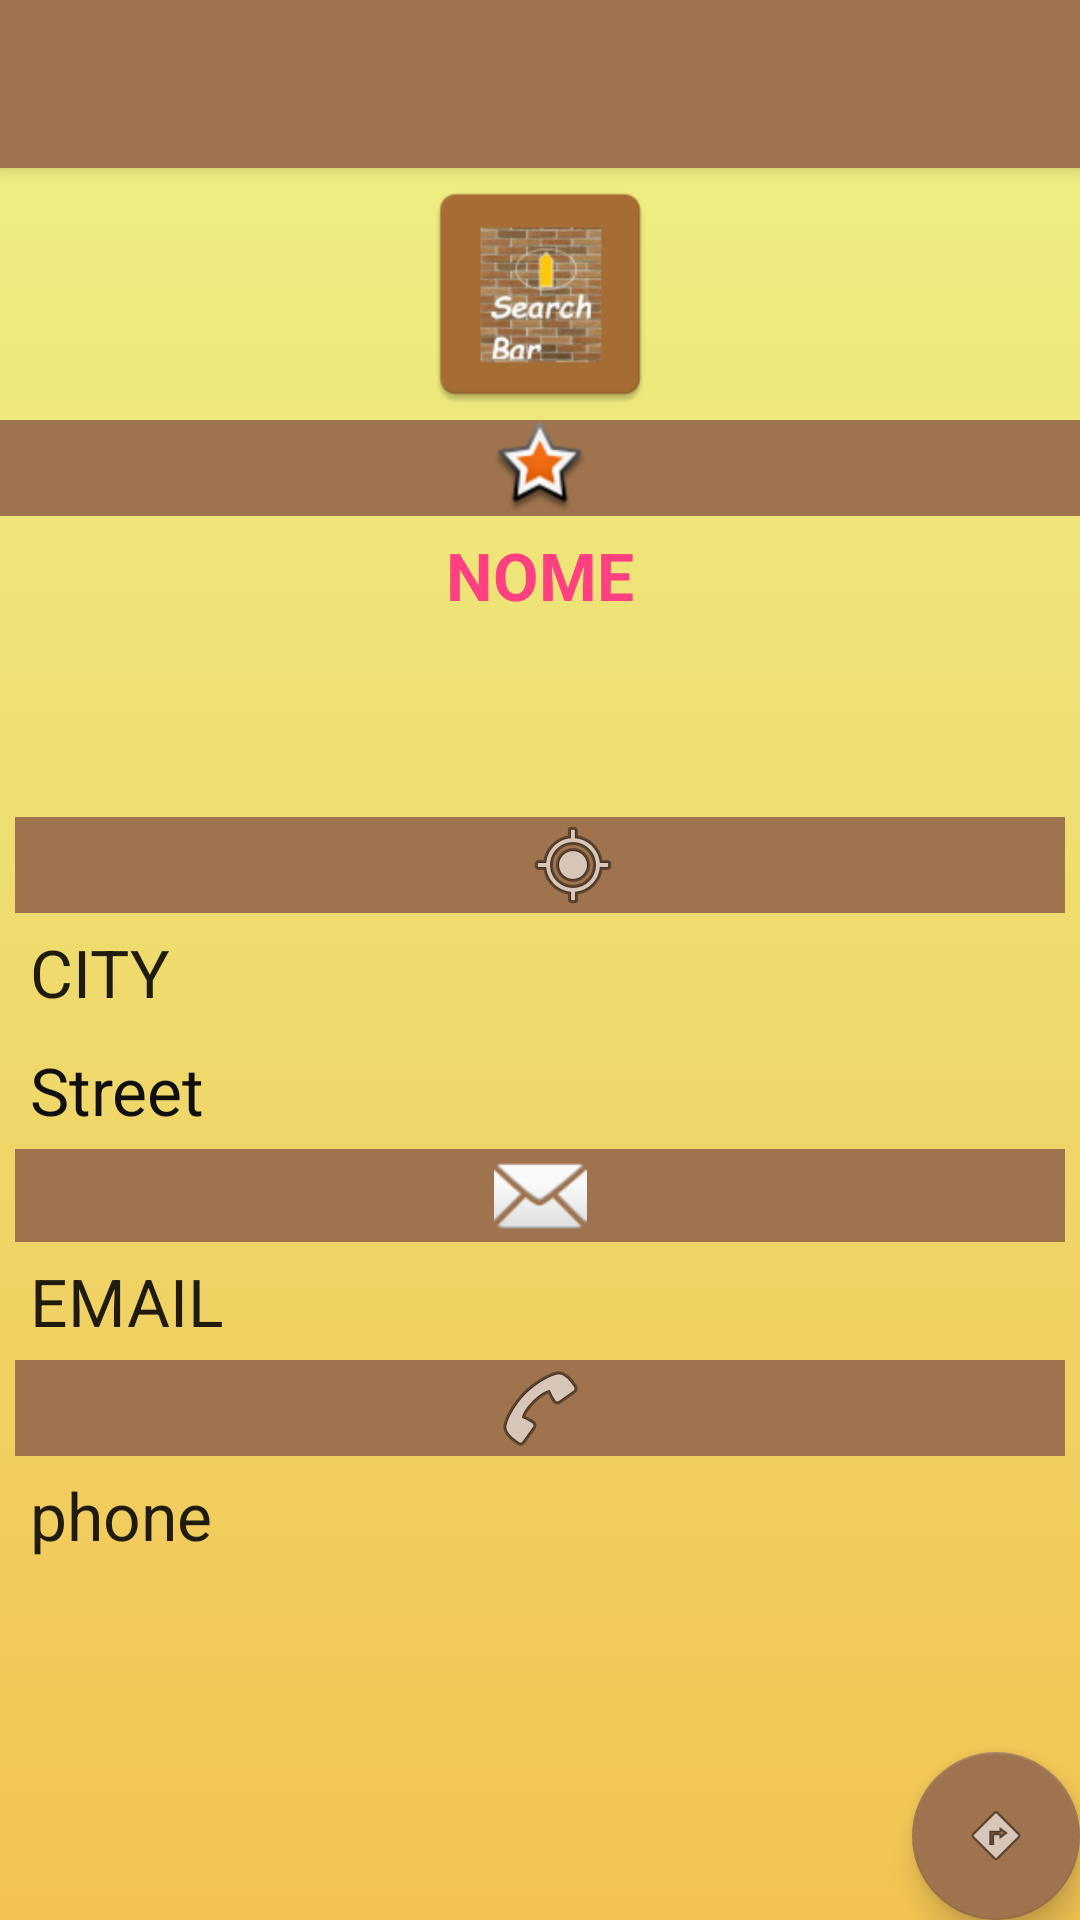

Screen size 1080*1920. Icon name, then its box in pixels as (left=x1, top=y1, right=x2, bottom=y2):
directions: (left=912, top=1752, right=1080, bottom=1920)
